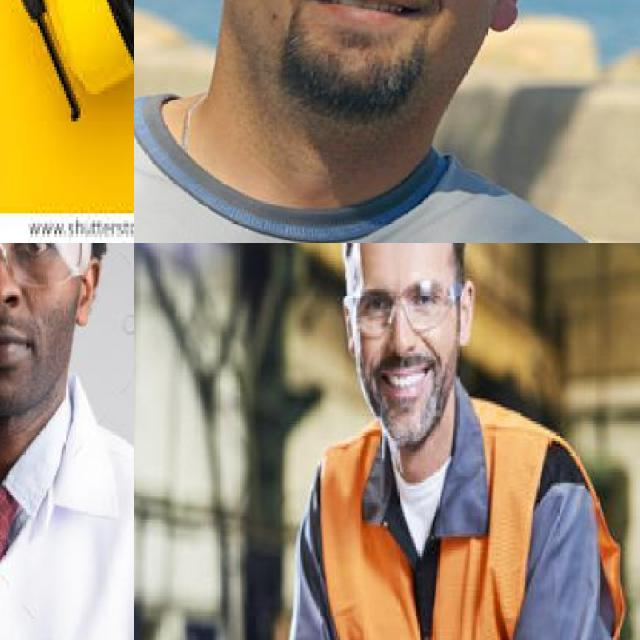Ear-protection: (23, 0, 134, 94)
No_Ear-Protection: (487, 0, 542, 42)
face_nomask: (261, 0, 494, 60), (352, 280, 457, 394), (0, 243, 66, 371)
glasses: (335, 270, 466, 334), (0, 243, 93, 293)
person: (268, 243, 640, 640), (0, 243, 134, 640)
vest: (313, 398, 619, 640)
